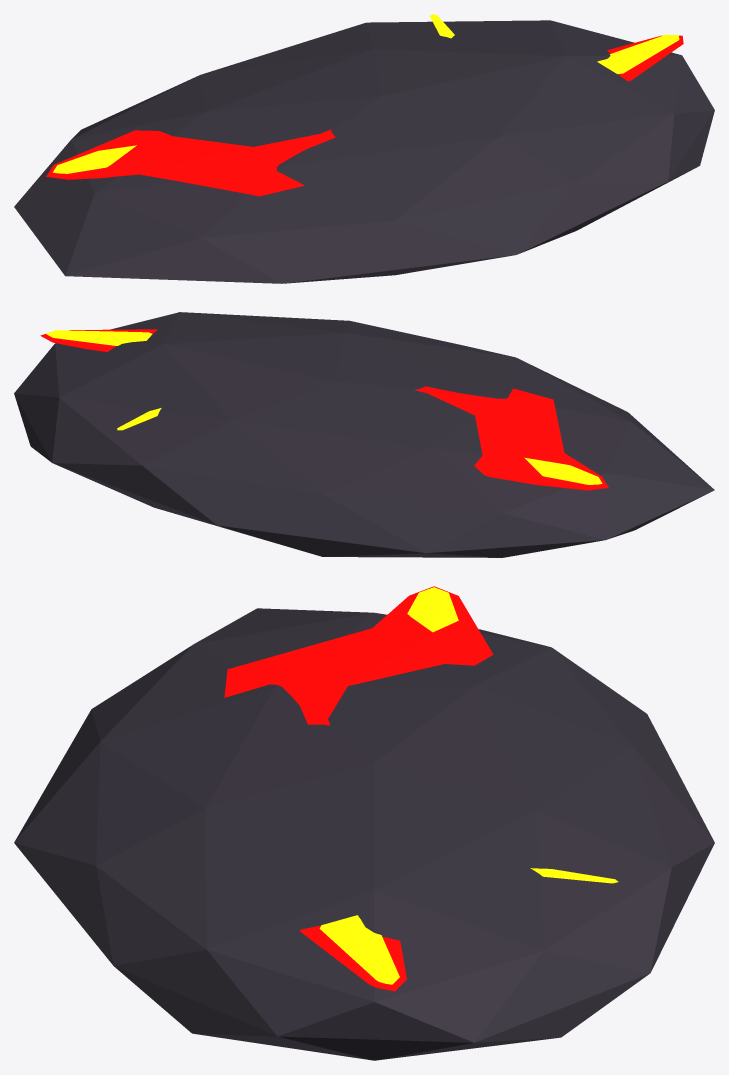
File: W4_Crack.fbx
3 views of the same model, one above another, from view 1: azimuth 30°, elevation 25°; view 2: azimuth 150°, elevation 25°; view 3: azimuth 270°, elevation 25° (orthographic). The views are drawn at different scales.
Parts seen in each view (by area): view 1: W4_Crack; view 2: W4_Crack; view 3: W4_Crack.
Boxes of the visible parts, x1=… form: W4_Crack: x1=14, y1=14, x2=714, y2=283; W4_Crack: x1=14, y1=312, x2=714, y2=557; W4_Crack: x1=14, y1=586, x2=714, y2=1060.
Size of the model in its own units: 7.91 by 0.9141 by 5.37.
